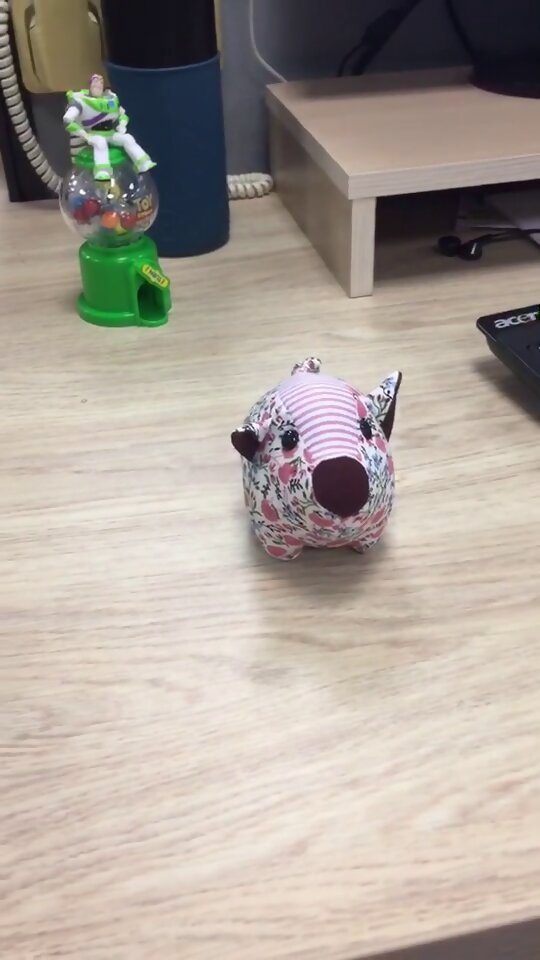pig: (229, 353, 409, 566)
